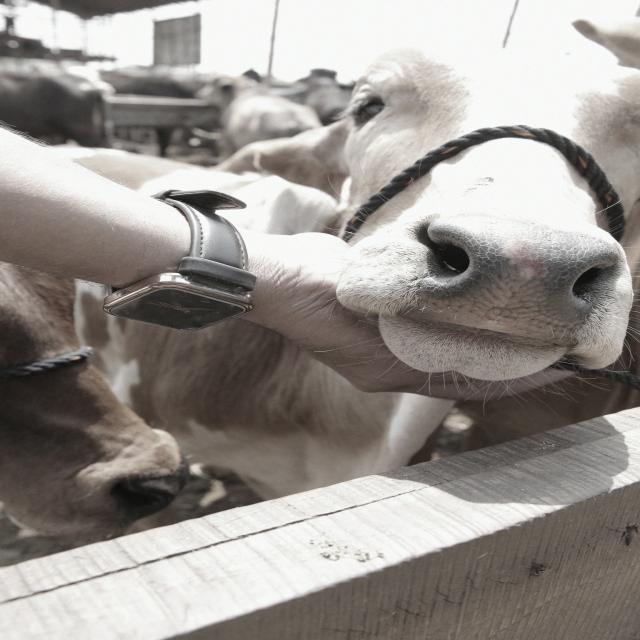muzzles: (366, 206, 634, 360)
